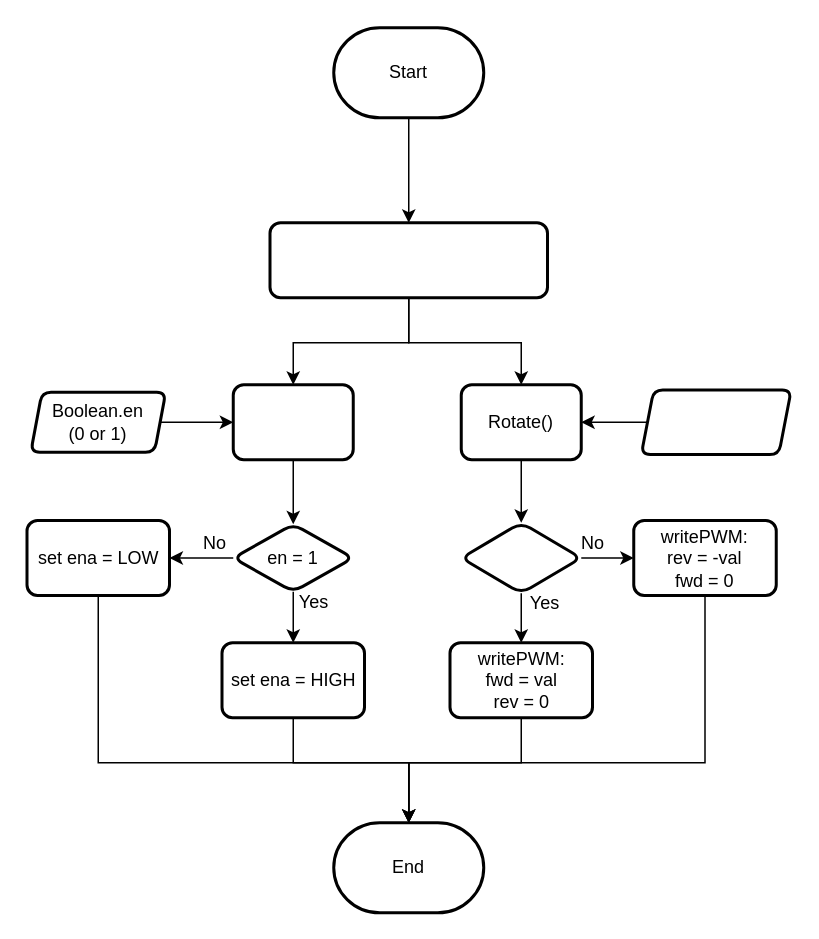
The diagram is 819 pixels wide and 939 high, and some of its shapes have lost their labels. Here are the shapes that lost their labels. From the top down, the centre of each, then its label:
At (408,259): "Pin Assignment (Forward = fwd; Reverse = rev; Enable = ena)".
At (292,421): "setEnable()".
At (715,421): "Integer.val (-255 s.d. 255)".
At (520,557): "val > 0".
